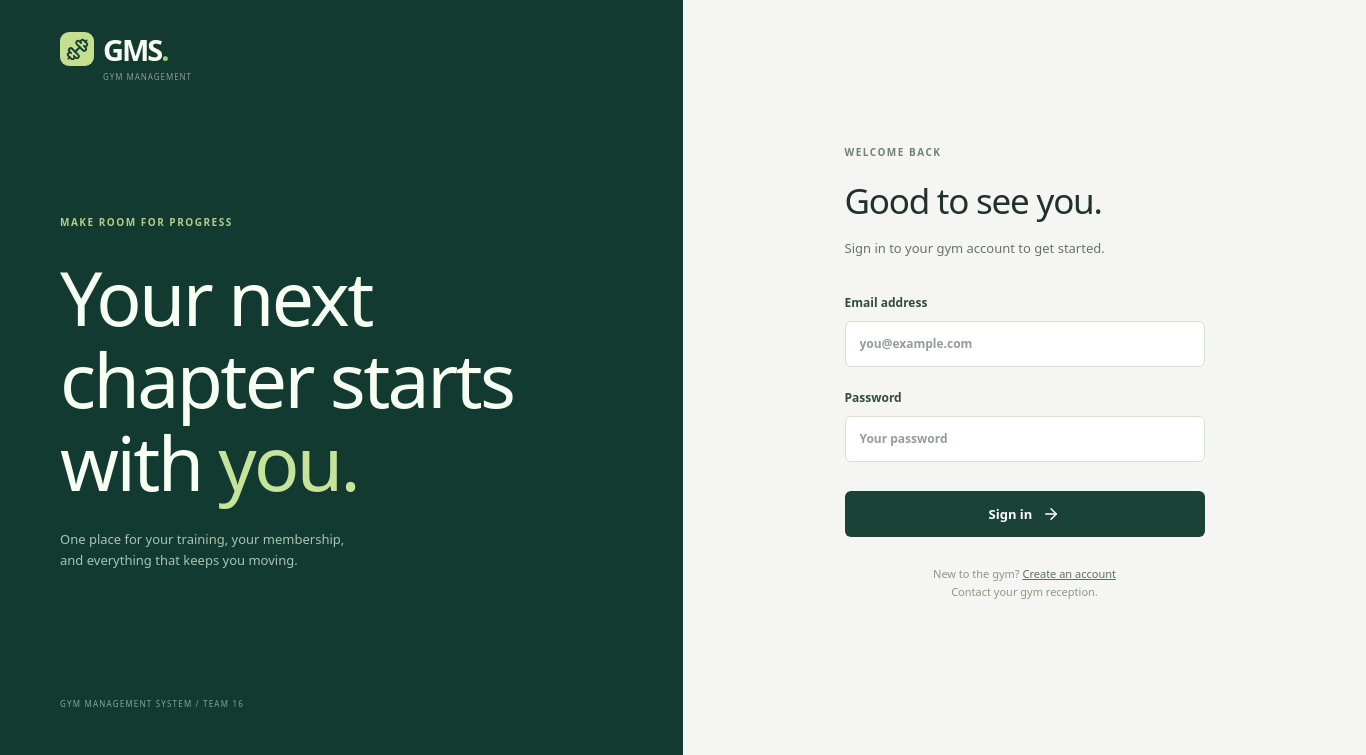
Test case: member registration UI / issue #2 › opens accessible required fields with the documented limits and can return to sign-in
Click the button "Create an account" at (1069, 574), box [1022,565,1116,583]
(page scrolled)
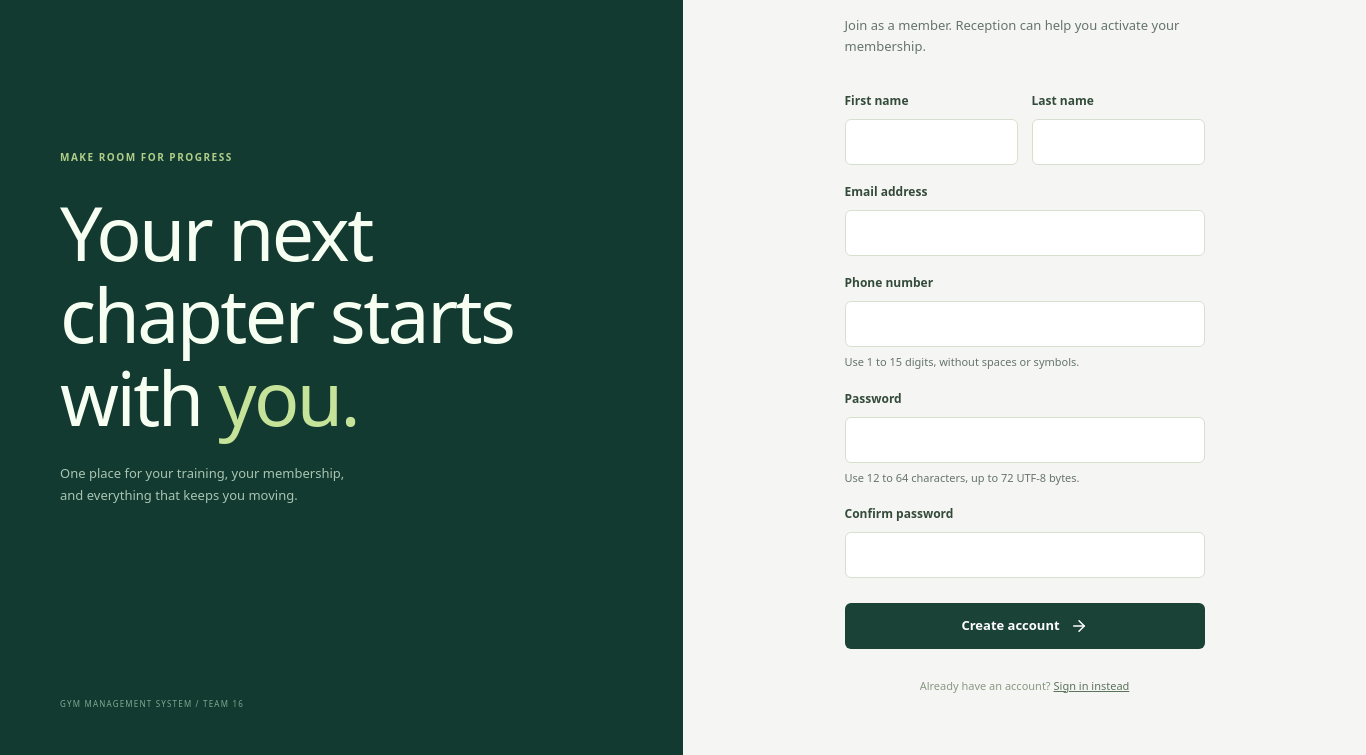
Result: the password field labelled "Password" has attribute maxlength="64" at [844,416,1204,462]
Result: the password field labelled "Password" has attribute minlength="12" at [844,416,1204,462]
Click the button "Sign in instead" at (1091, 686), box [1054,677,1129,695]
(page scrolled)
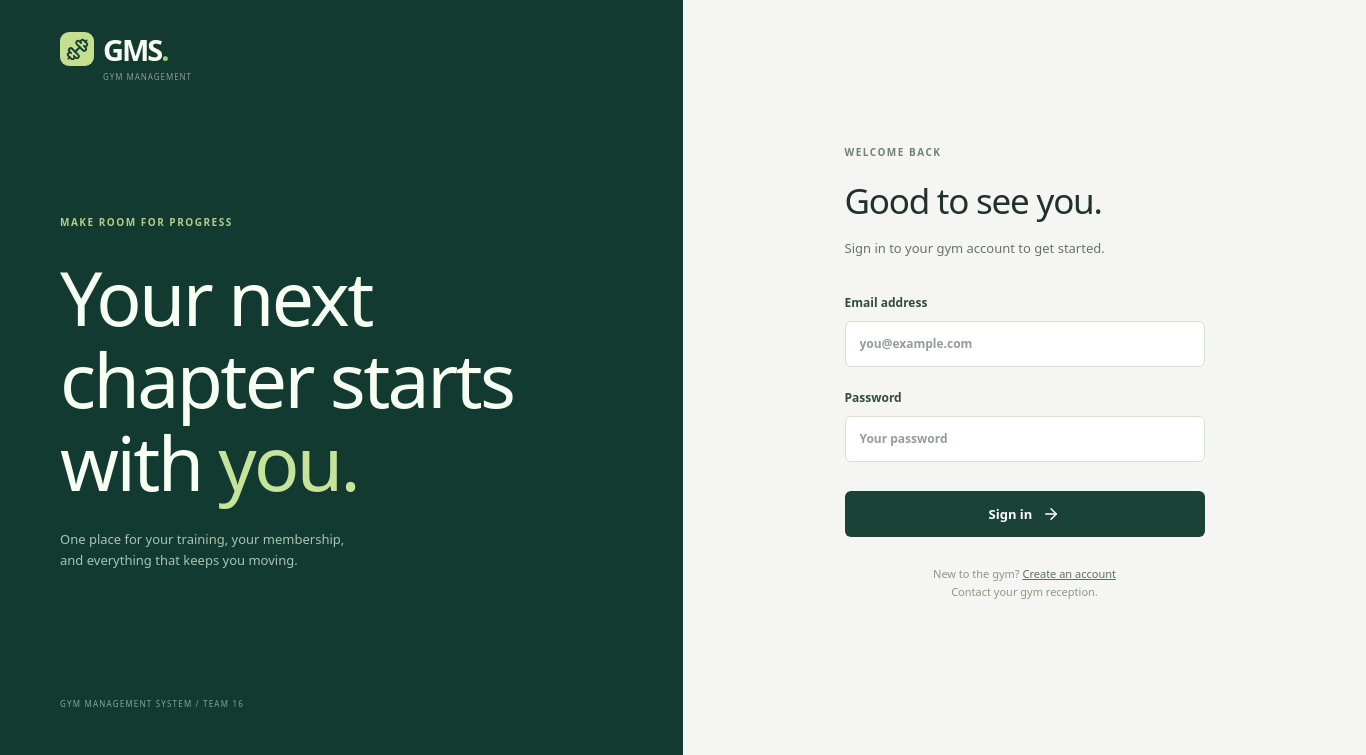
Result: the button "Sign in" is shown at [844,491,1204,537]
